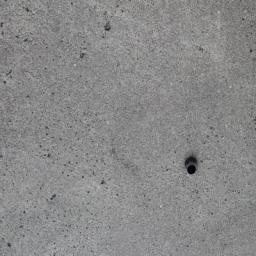FOD: (182, 155, 204, 178)
